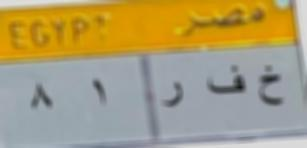1: (82, 73, 114, 116)
8: (27, 70, 55, 118)
faa: (207, 63, 246, 103)
khaa: (251, 60, 291, 111)
raa: (155, 80, 193, 116)
